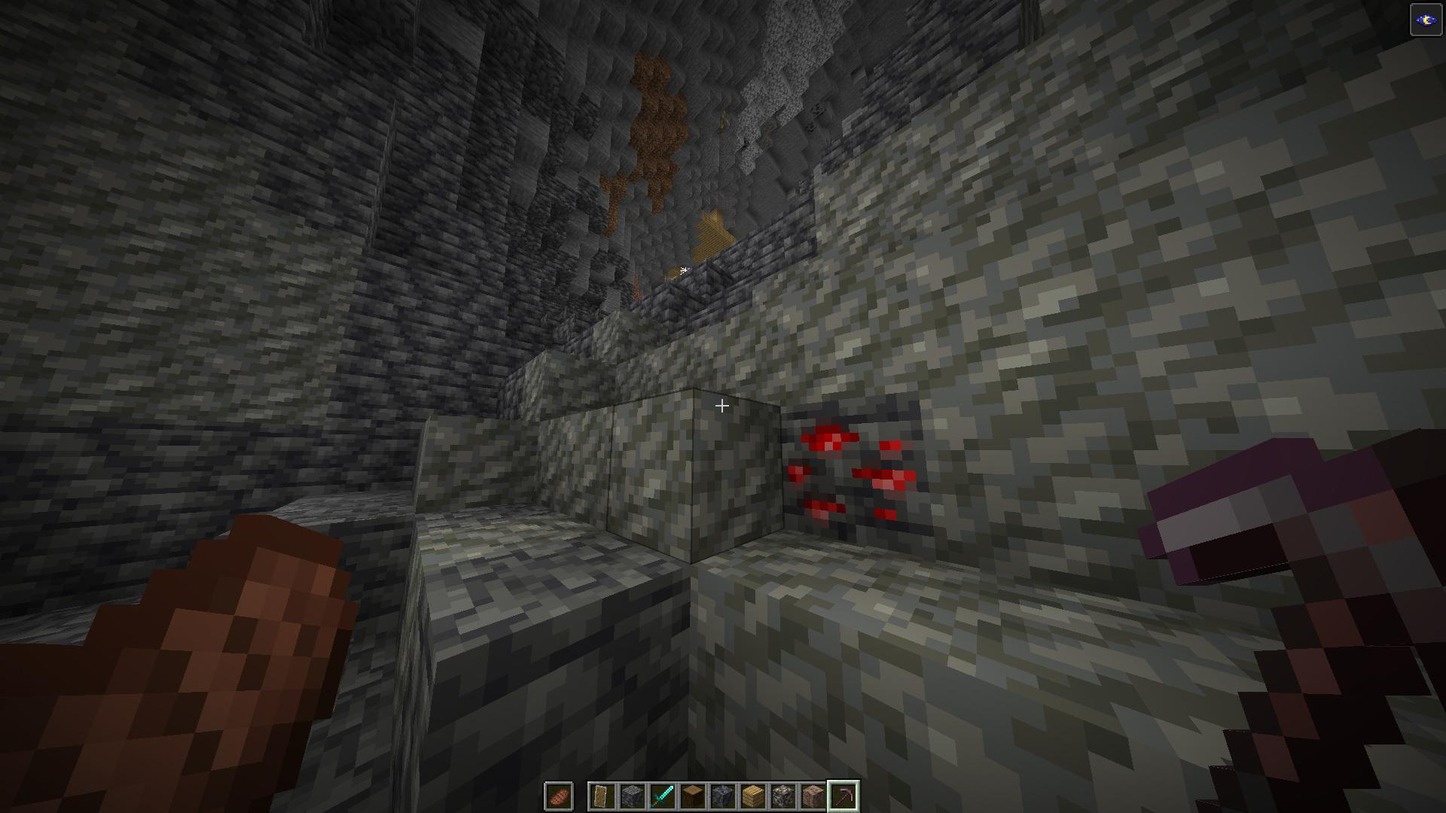redstone ore: (781, 403, 934, 547)
